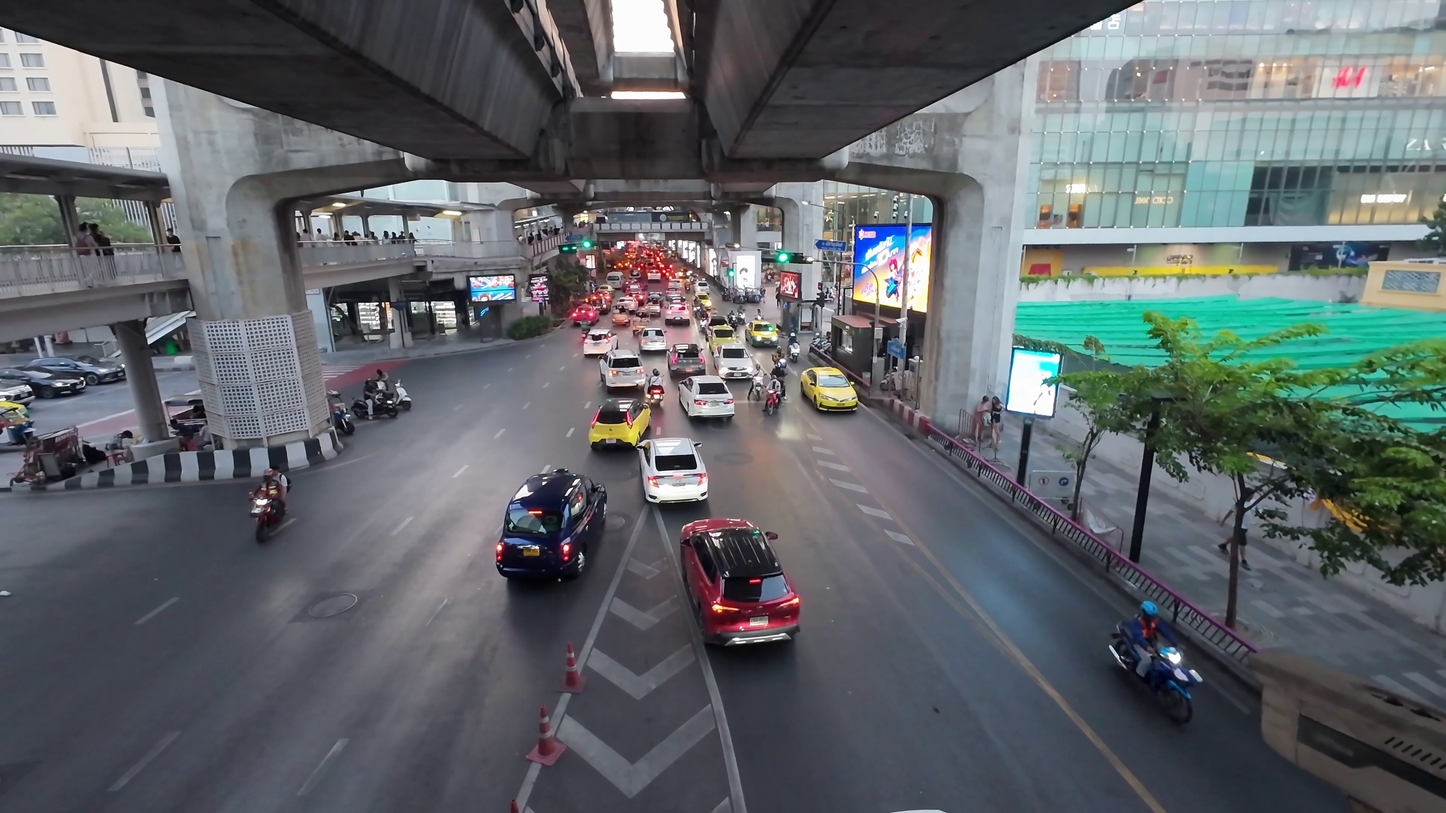license_plate: (709, 595, 771, 638), (523, 536, 581, 573), (1129, 688, 1176, 719), (605, 419, 640, 445), (656, 480, 692, 502), (815, 394, 845, 410), (32, 383, 70, 395), (696, 404, 723, 419), (258, 523, 279, 542), (374, 408, 399, 420)
motorcycle: (1106, 601, 1200, 726), (248, 469, 290, 546), (361, 373, 412, 423)
no_seatbelt: (696, 535, 784, 602), (511, 484, 592, 542), (598, 384, 647, 423), (649, 448, 699, 483), (808, 371, 851, 396), (25, 365, 77, 385), (690, 384, 728, 406)
